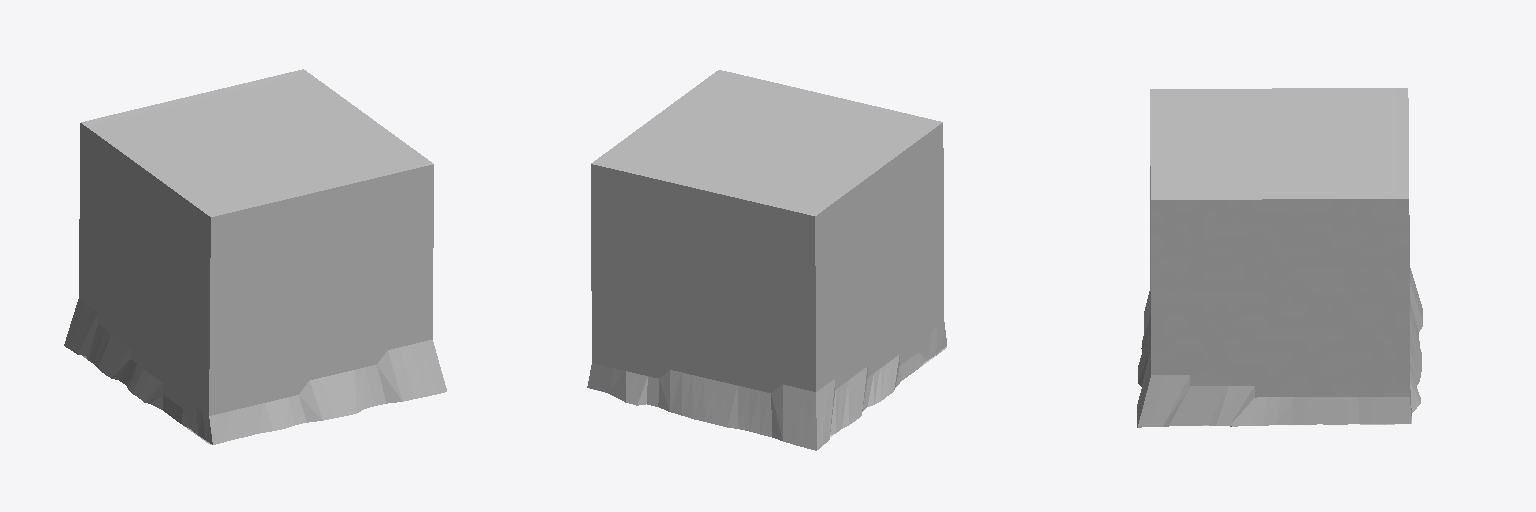
Rendered from mod0152.obj.
The picture shows the model from 3 angles: view 1: azimuth 30°, elevation 25°; view 2: azimuth 150°, elevation 25°; view 3: azimuth 270°, elevation 25°; orthographic projection.
Visible parts, largest first — view 1: Box001; view 2: Box001; view 3: Box001.
Part boxes in pixels (bbox=[...]): Box001: bbox=[64, 69, 446, 444]; Box001: bbox=[587, 70, 946, 450]; Box001: bbox=[1137, 88, 1422, 427].
Size of the model in its own units: 0.5799 by 0.5228 by 0.5979.